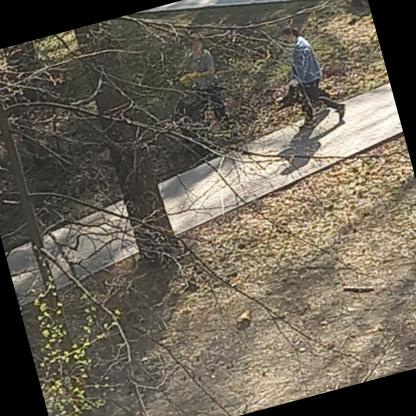Human Body: (156, 29, 244, 155), (266, 15, 352, 137)
